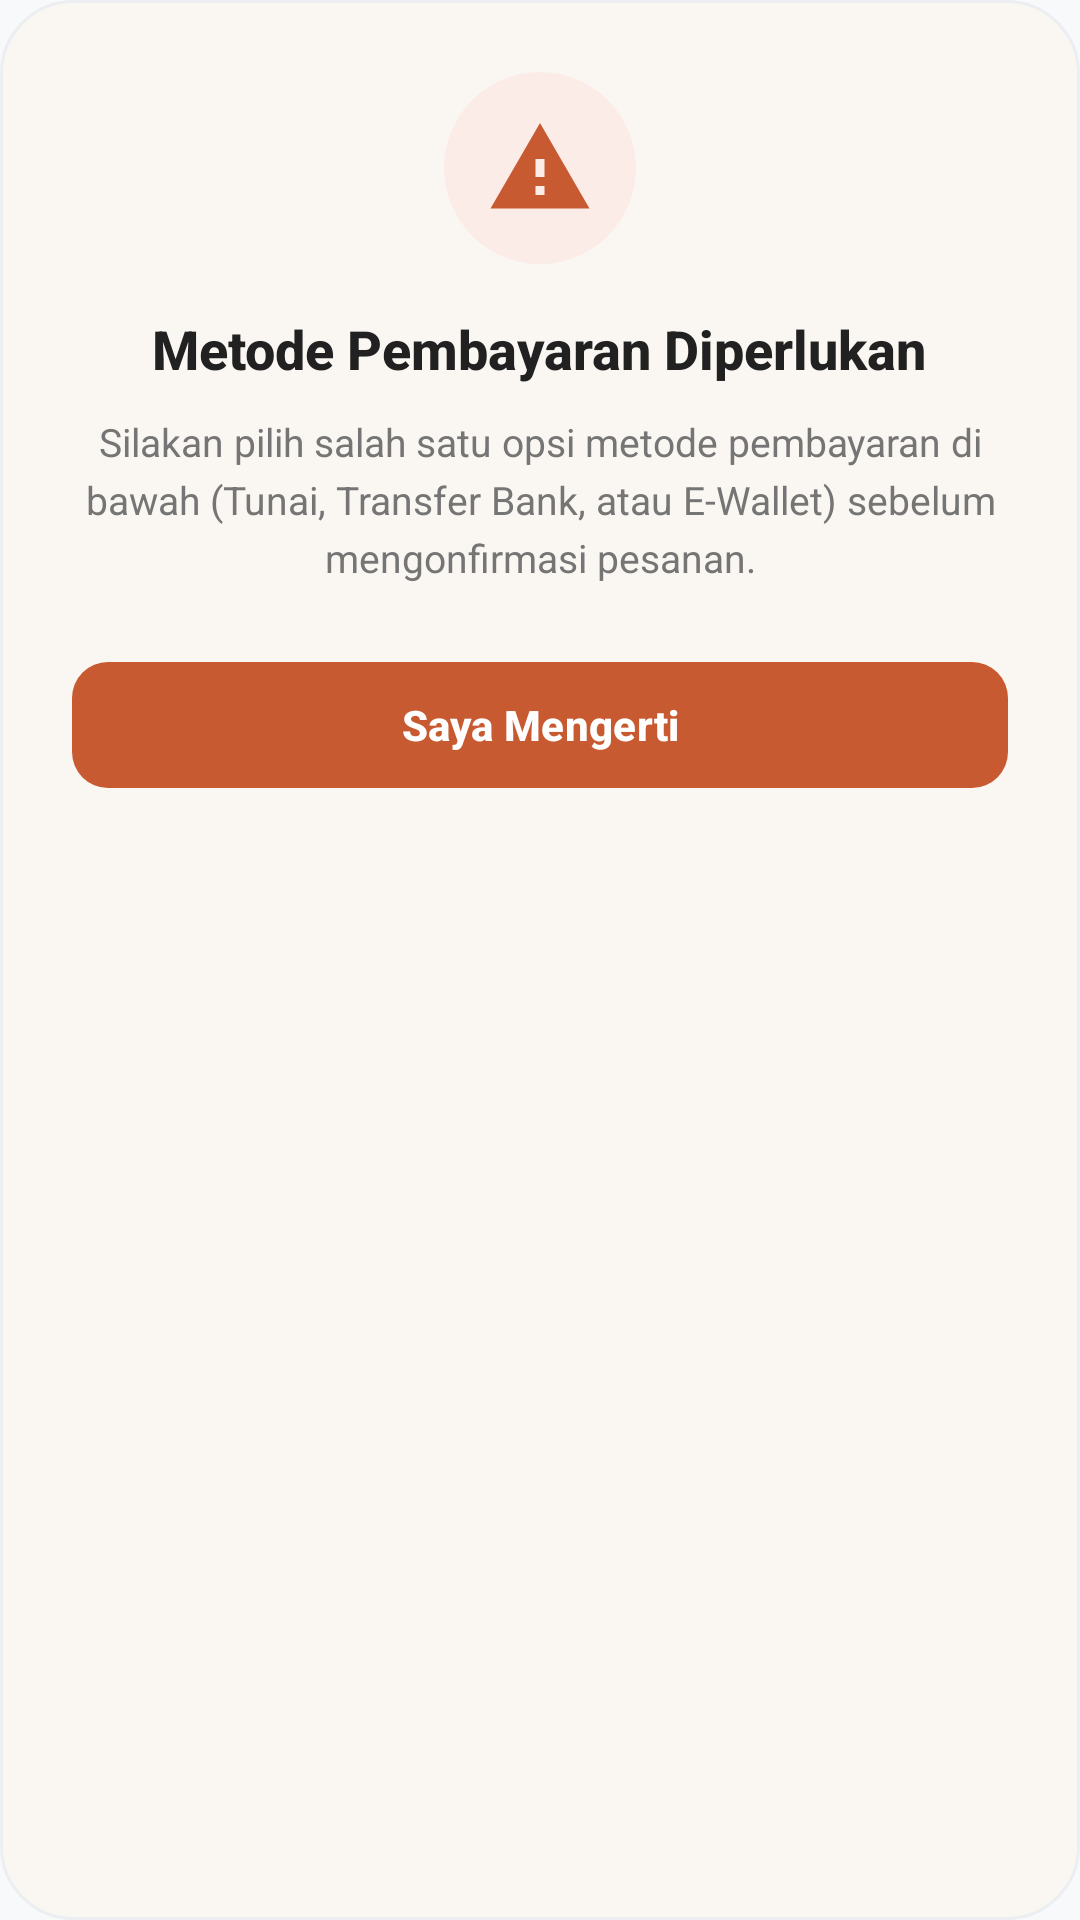

Icons on this 1080px x 1920px Android screen, each with the point to tap as point (x, y):
warning amber: point (540, 166)
